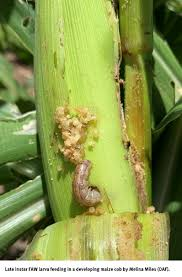Armyworm: (72, 153, 108, 213)
